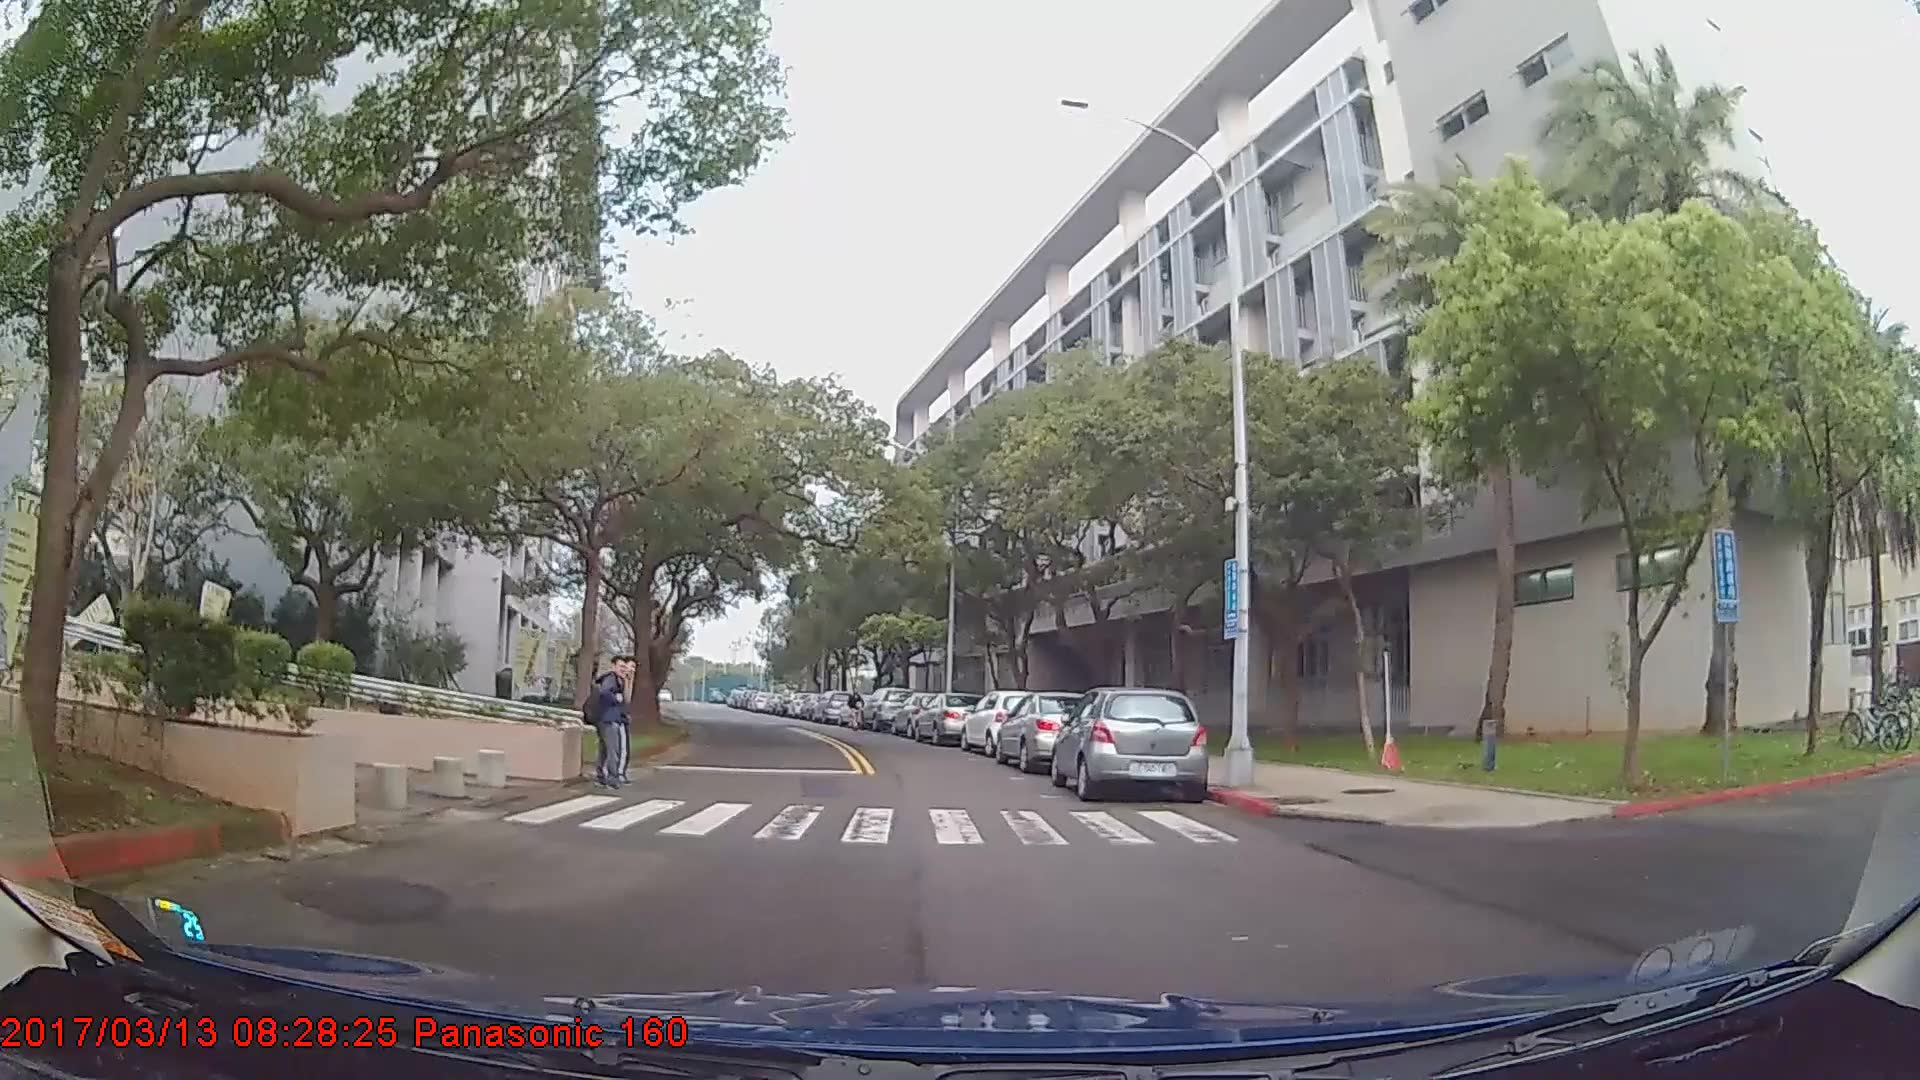pedestrian: (585, 655, 636, 791), (846, 686, 867, 733)
vehicle: (1051, 682, 1208, 798), (992, 691, 1098, 774), (959, 687, 1050, 756), (912, 690, 988, 746), (858, 684, 914, 730), (816, 691, 852, 725)
